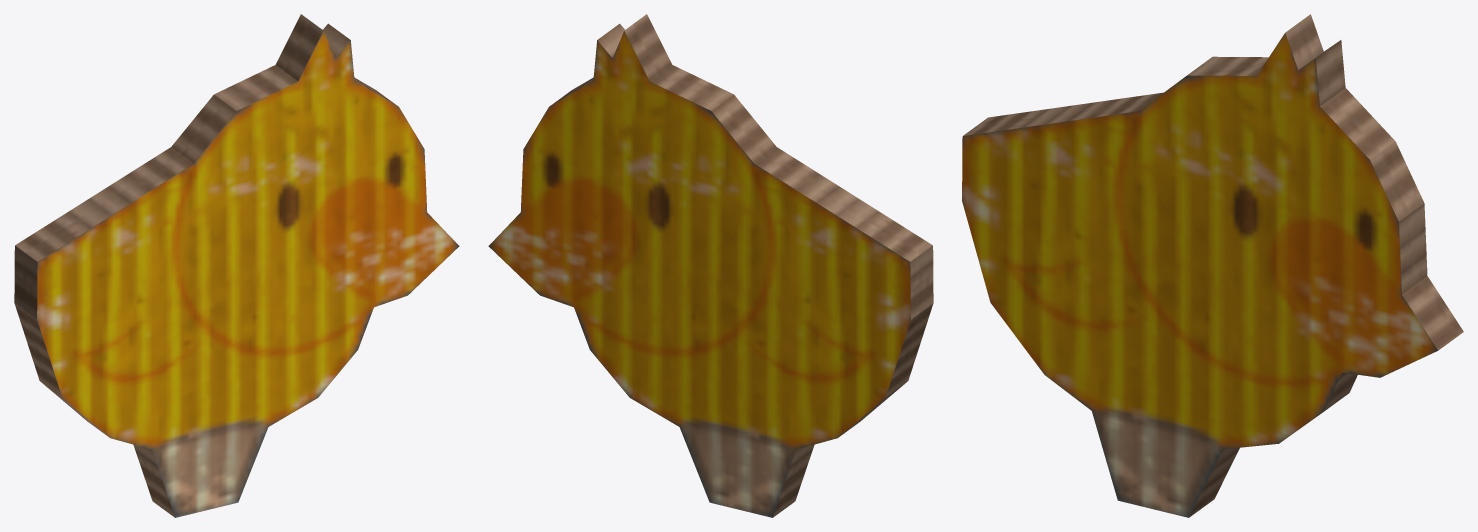
File: SM_Duck.fbx
The picture shows the model from 3 angles, left to right: view 1: azimuth 30°, elevation 25°; view 2: azimuth 150°, elevation 25°; view 3: azimuth 330°, elevation 25°; orthographic projection. The views are drawn at different scales.
Visible parts, largest first — view 1: SM_Duck; view 2: SM_Duck; view 3: SM_Duck.
Part boxes in pixels (left/top/right/bottom): SM_Duck: left=14, top=14, right=459, bottom=517; SM_Duck: left=488, top=14, right=933, bottom=517; SM_Duck: left=962, top=14, right=1463, bottom=517.
Bounding box in the file's own units: 107 × 109 × 9.95.
